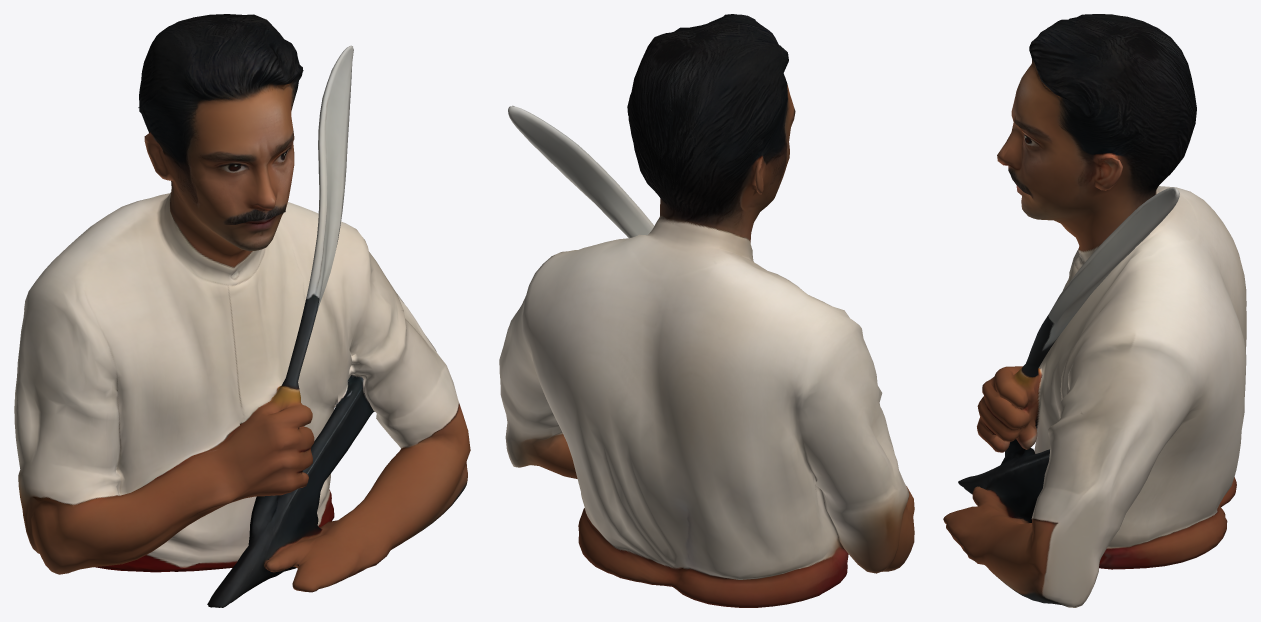
Rendered from pattimura.glb.
3 views of the same model, side by side, from view 1: azimuth 30°, elevation 25°; view 2: azimuth 150°, elevation 25°; view 3: azimuth 270°, elevation 25° (orthographic). The views are drawn at different scales.
Visible parts, largest first — view 1: model; view 2: model; view 3: model.
Boxes of the visible parts, left/top/right/bottom form: model: left=14, top=14, right=470, bottom=607; model: left=499, top=14, right=914, bottom=607; model: left=943, top=14, right=1246, bottom=607.
Size of the model in its own units: 1.58 by 1.9 by 1.06.
1 material, 1 textured.
